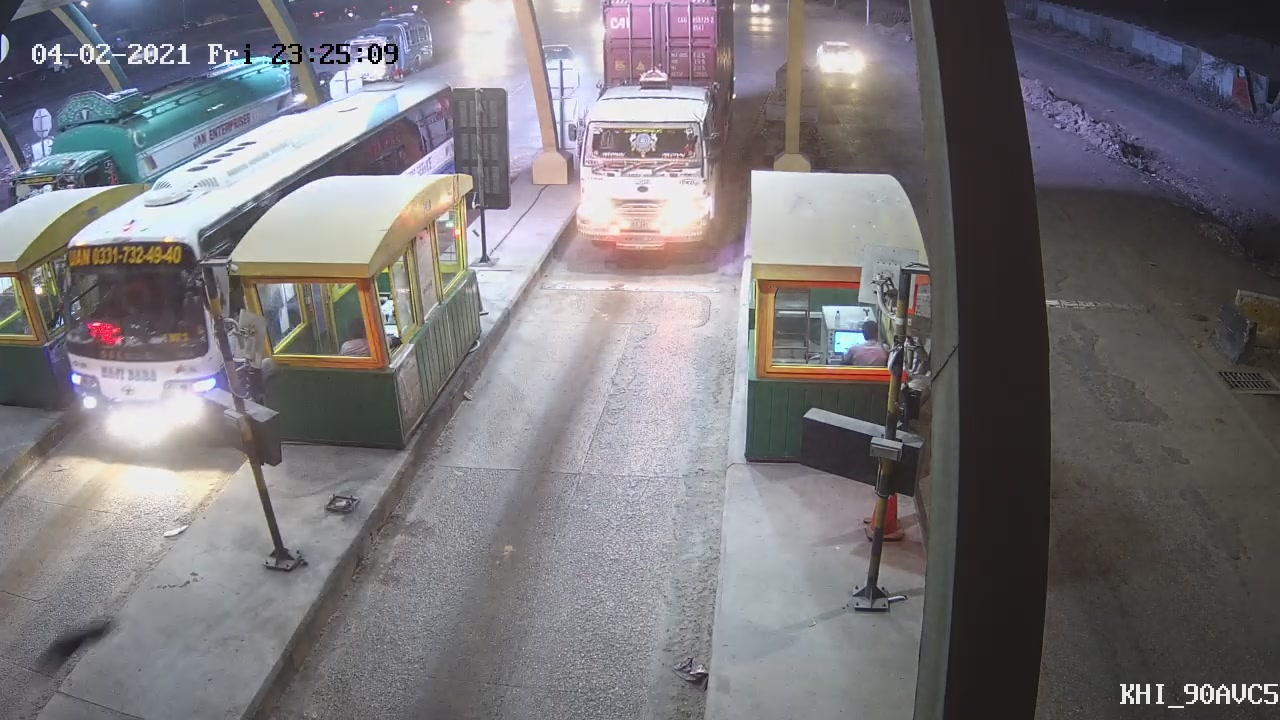F6: (559, 1, 745, 250)
